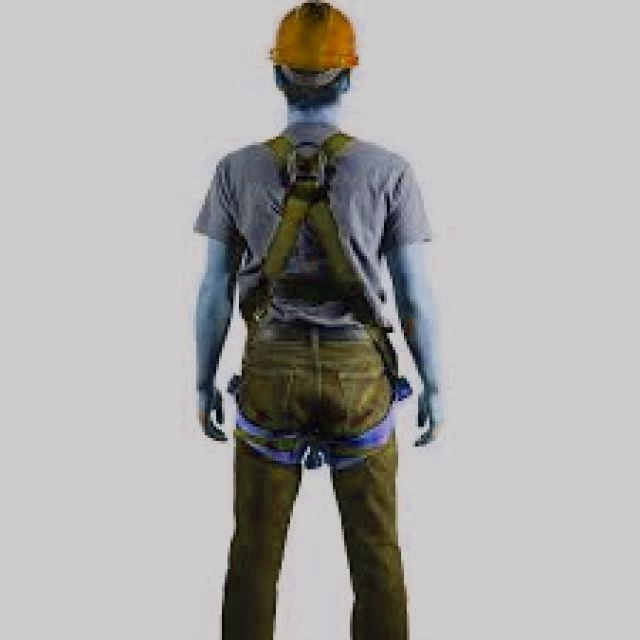safety belt: (196, 140, 429, 482)
